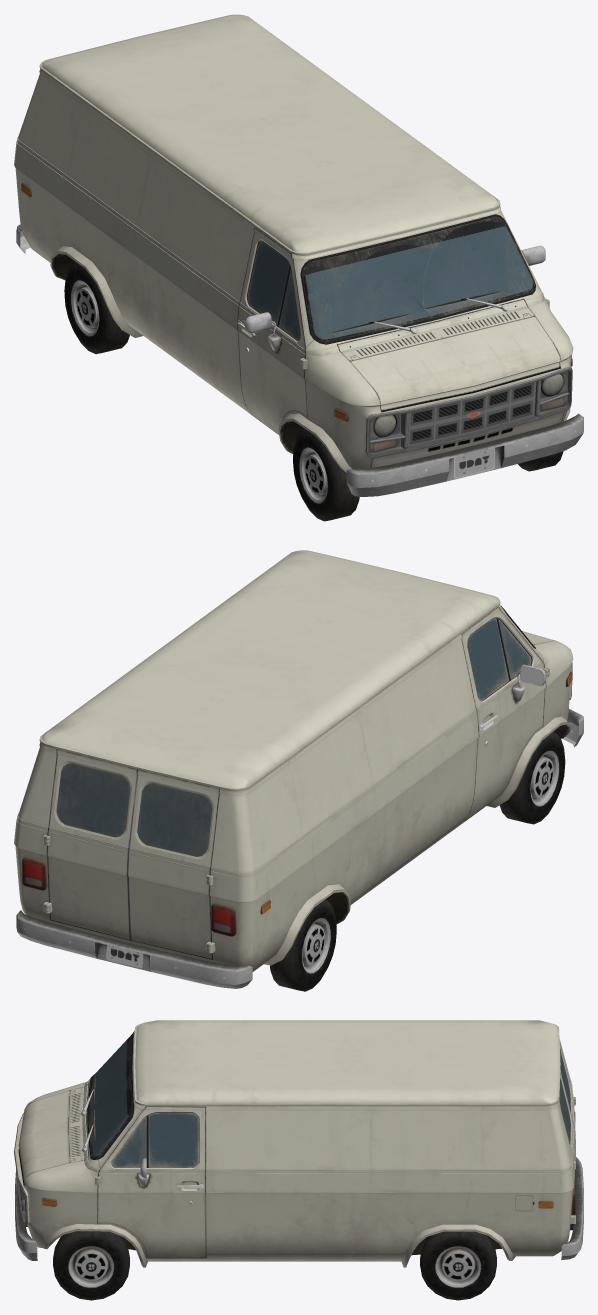
The model's file is van2.glb.
The picture shows the model from 3 angles, top to bottom: view 1: azimuth 30°, elevation 25°; view 2: azimuth 150°, elevation 25°; view 3: azimuth 270°, elevation 25°; orthographic projection. The views are drawn at different scales.
Parts seen in each view (by area): view 1: Object_2; view 2: Object_2; view 3: Object_2.
Boxes of the visible parts, bbox=[...] form: Object_2: bbox=[14, 14, 583, 521]; Object_2: bbox=[14, 550, 583, 991]; Object_2: bbox=[14, 1020, 583, 1300].
Size of the model in its own units: 1.52 by 1.21 by 3.12.
1 material, 1 textured.
